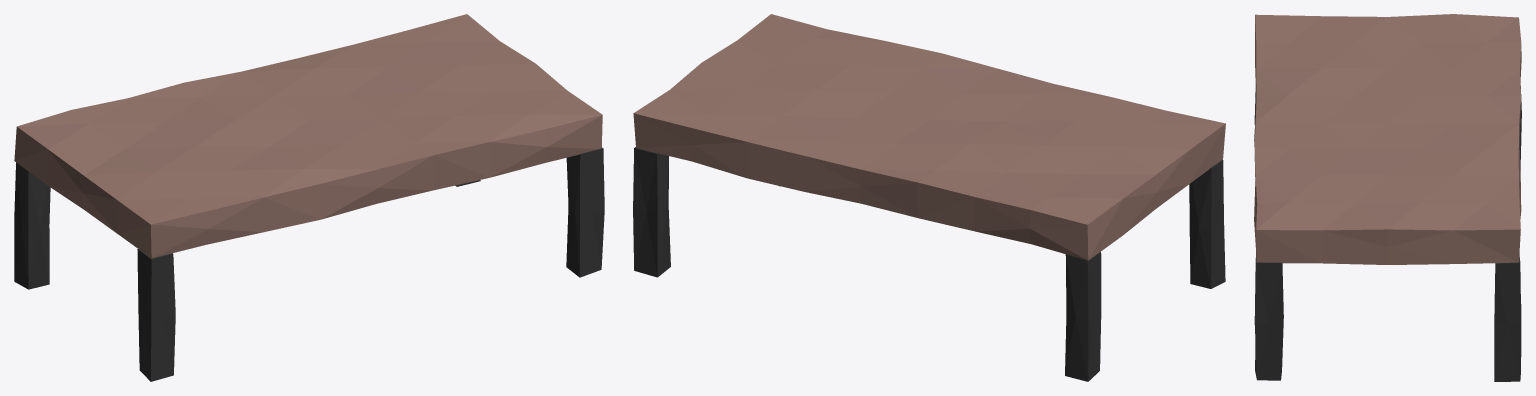
The model's file is livingroom_coffeetable.fbx.
The picture shows the model from 3 angles, left to right: view 1: azimuth 30°, elevation 25°; view 2: azimuth 150°, elevation 25°; view 3: azimuth 270°, elevation 25°; orthographic projection. The views are drawn at different scales.
Parts seen in each view (by area): view 1: livingroom_coffeetable; view 2: livingroom_coffeetable; view 3: livingroom_coffeetable.
Part boxes in pixels (box(x1,y1,x2,y2)): livingroom_coffeetable: box(14, 14, 604, 381); livingroom_coffeetable: box(633, 14, 1225, 381); livingroom_coffeetable: box(1254, 14, 1521, 381).
Size of the model in its own units: 92.02 by 30.78 by 48.42.
